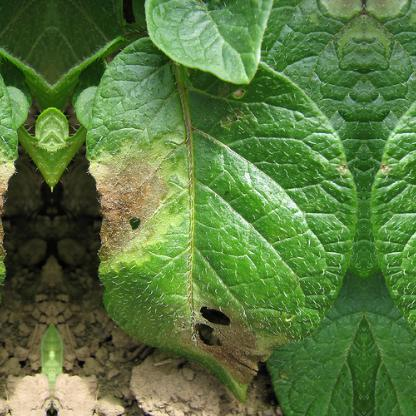Late-Blight: (76, 38, 358, 400)
